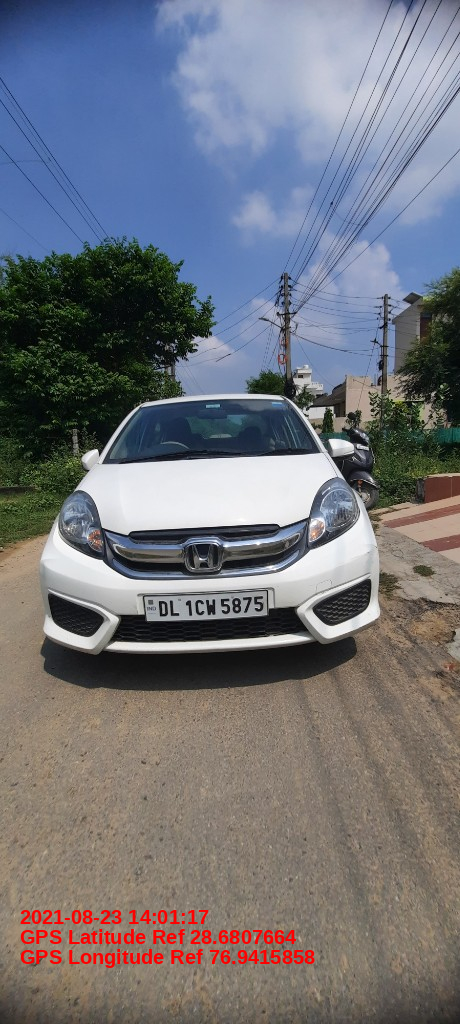Scratched: (364, 541, 378, 557), (132, 601, 141, 616), (272, 582, 285, 591)
